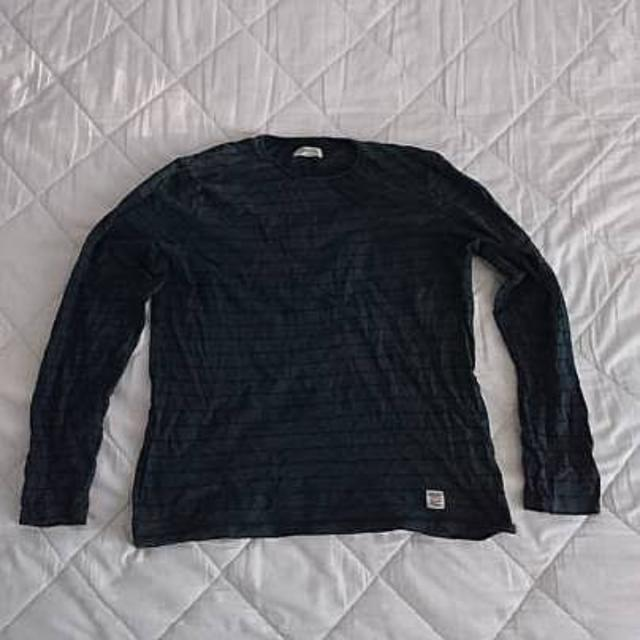SHIRT: (7, 120, 640, 557)
